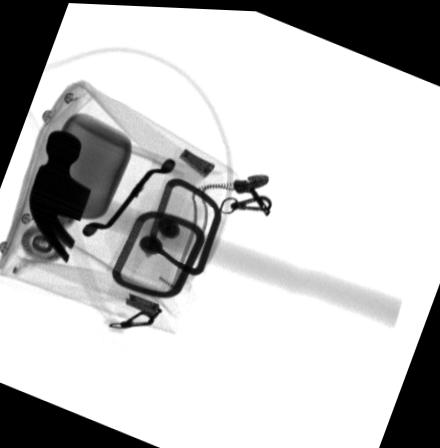Hammer: (25, 124, 405, 327)
Wrench: (81, 152, 178, 237)
